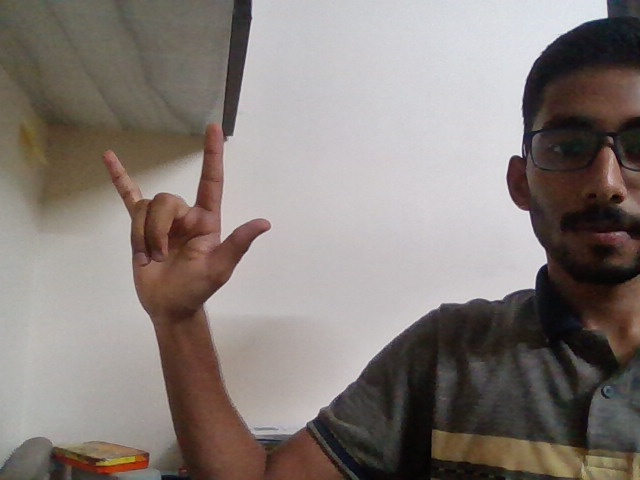Enjoy: (87, 111, 286, 351)
